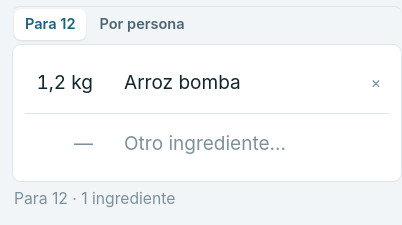
Test case: para la receta o por persona › y el pie enseña la otra cifra, que es la que el mando esconde
Click the button "Por persona": (142, 25) top-left (88, 9), bottom-right (196, 40)
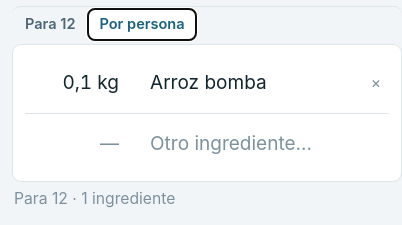
Click the field named "Cantidad de Arroz bomba por persona": (77, 83) top-left (25, 60), bottom-right (129, 106)
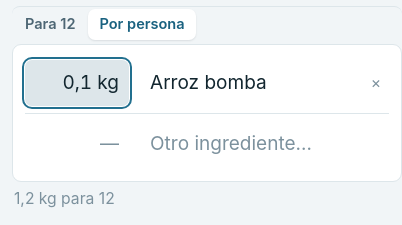
Now the message reads "1,2 kg para 12", box top-left (14, 189), bottom-right (115, 208)
